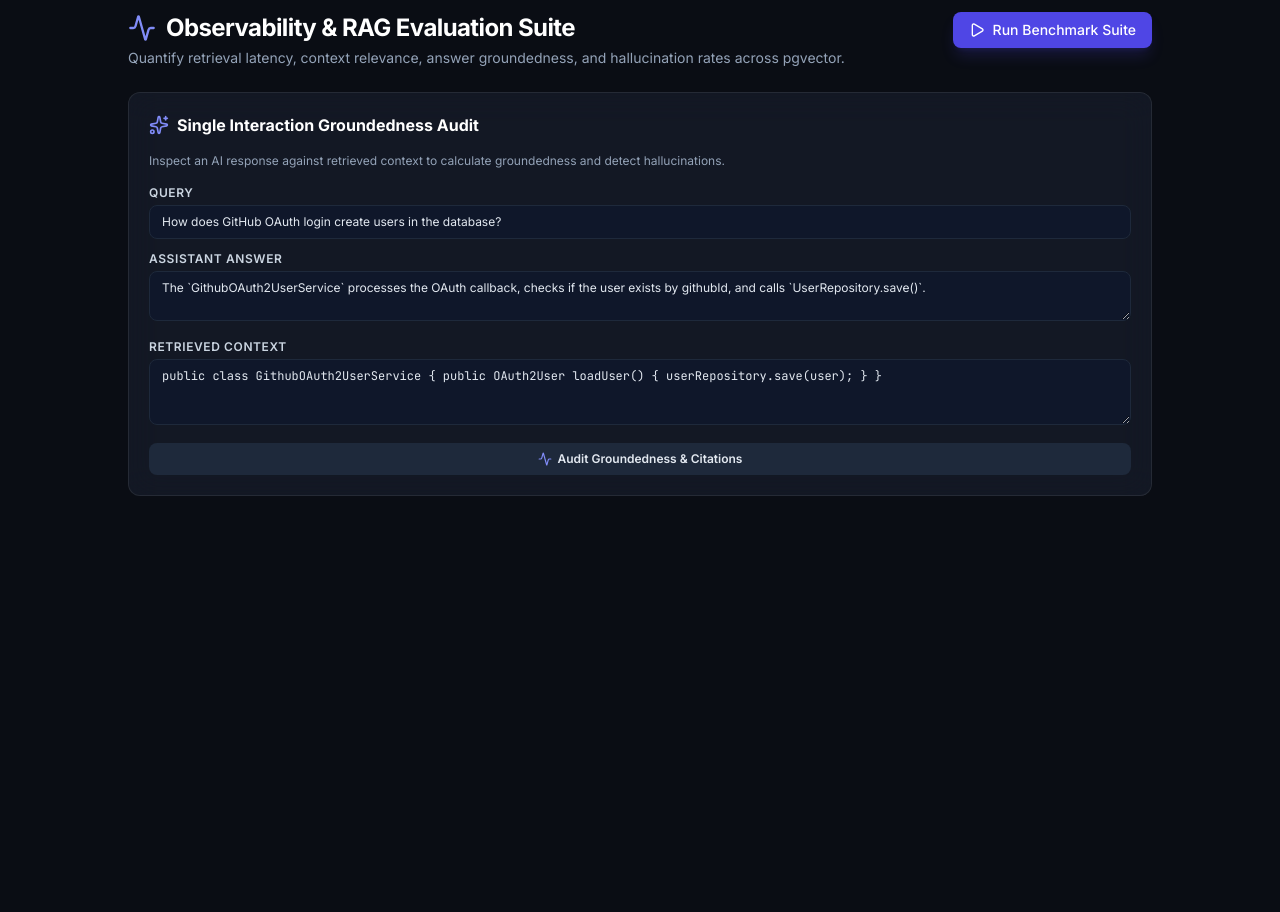
Test: EvaluationPage › runs benchmark suite and renders metric cards and case table
Expected: the heading "Observability & RAG Evaluation Suite" is shown, [128,13,575,42]
Click the button "Run Benchmark Suite" at (1052, 30), box [953,12,1152,48]
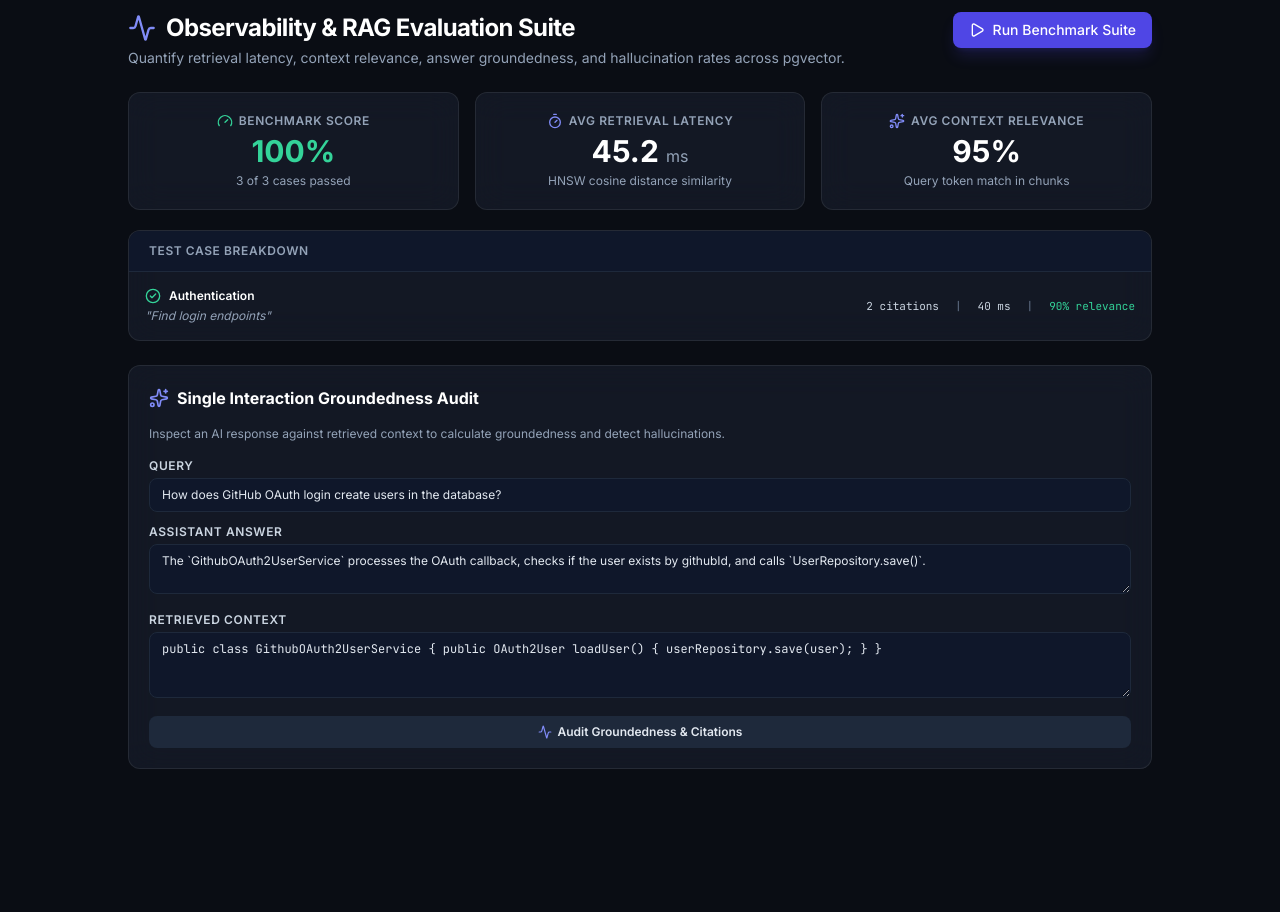
Now the text "100%" is shown, box [251,133,335,169]
Now the text "45.2" is shown, box [592,133,659,169]
Now the text "Authentication" is shown, box [169,288,254,304]
